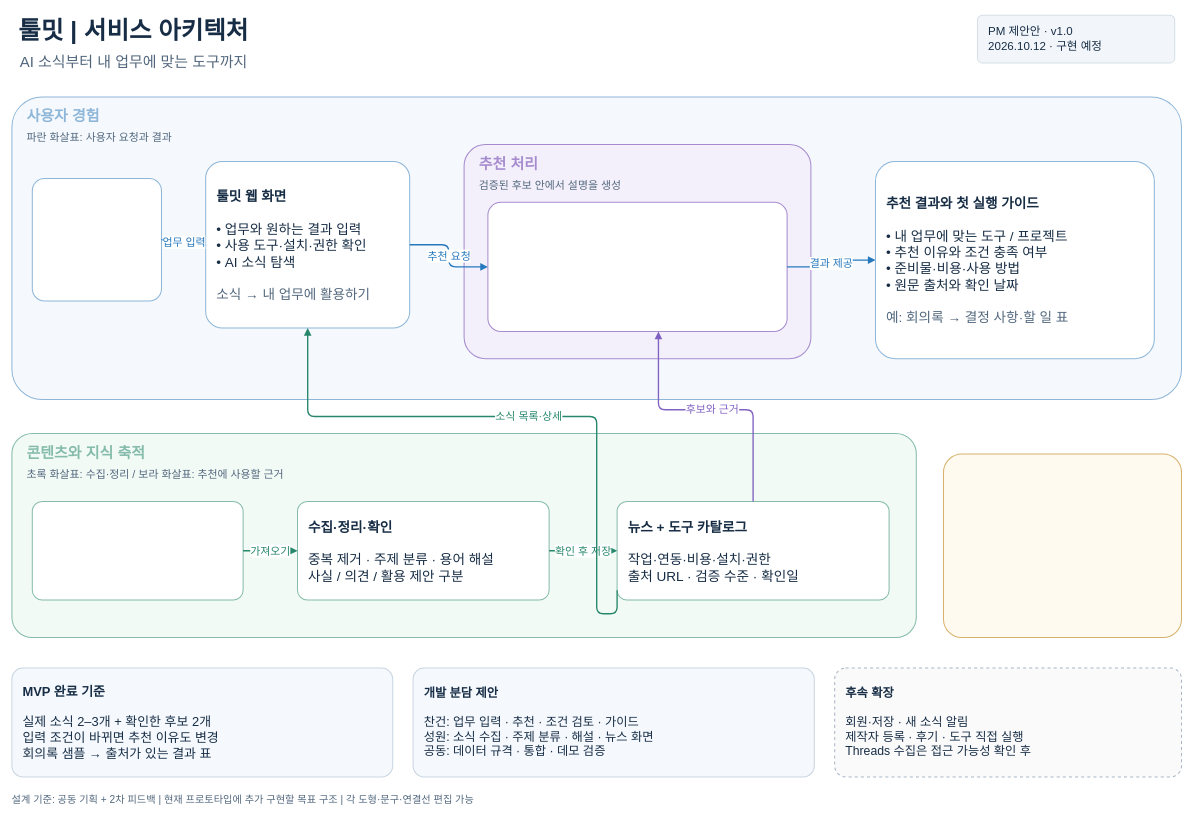
Some shapes in this 1194 by 819 pixel diagram are drawn without their labels. The centre of each missing label's shape, as x and y in pixels:
"① 업무 이해·추가 질문 ② 카탈로그에서 후보 조회 ③ 환경·비용·권한 조건 비교 ④ 추천 이유·사용 순서 작성" belongs at point (637, 266).
"결과 표시 원칙 조건상 검토 가능 조건 변경 필요 / 확인 필요 현재 조건에 부적합 추천 ≠ 회사 승인·실행 검증 모르는 조건은 “확인 필요”" belongs at point (1062, 545).
"공개 원문 공식 AI 소식·RSS GitHub 프로젝트·공개 템플릿" belongs at point (137, 550).
"사용자 어떤 일을 도와줬으면 하나요?" belongs at point (96, 239).
